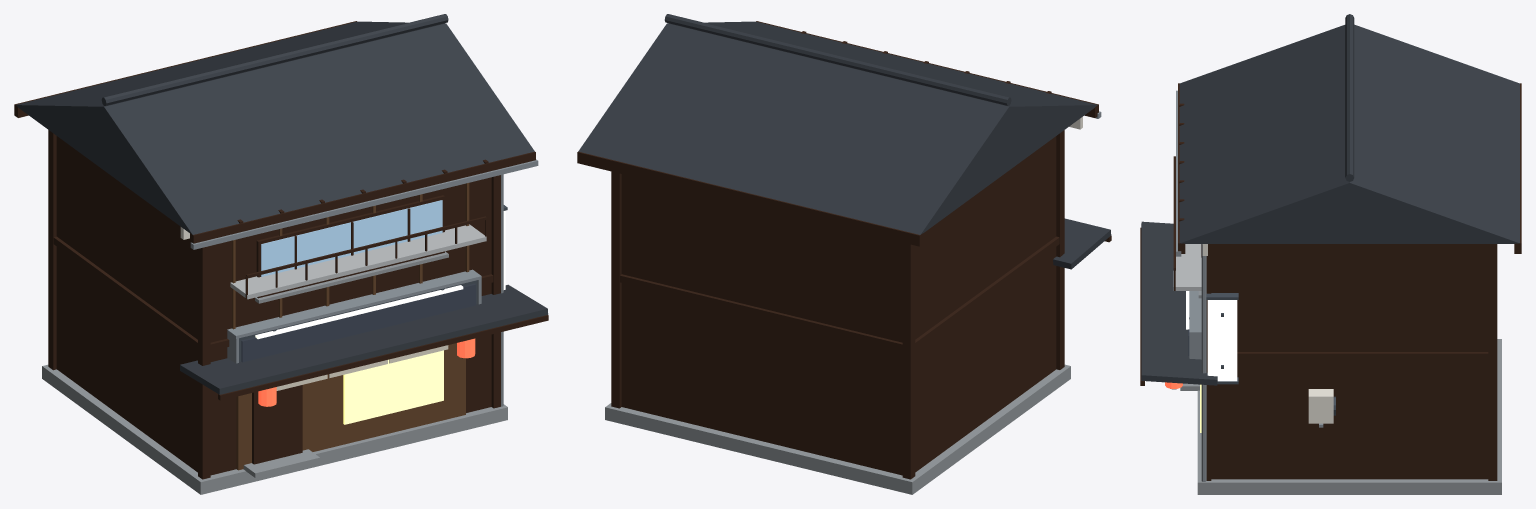
Rendered from shop_kappo_2f.glb.
The picture shows the model from 3 angles, left to right: view 1: azimuth 30°, elevation 25°; view 2: azimuth 150°, elevation 25°; view 3: azimuth 270°, elevation 25°; orthographic projection. The views are drawn at different scales.
Visible parts, largest first — view 1: roof.019, body.042, eave.019, panel.010, base.043, win_glass.056, panel_glass.010, sign_face.036, balcony_slab.046, ridge.019, door.039, eave_front.019 (+14 smaller); view 2: body.042, roof.019, base.043, eave_back.019, beam.094, ridge.019, post.169, post.171, post.168, eave.019; view 3: roof.019, body.042, eave.019, base.043, blade_board.011, post.171, beam.094, ridge.019, downpipe.018, balcony_slab.046, post.170, ac_body.054 (+1 smaller).
Boxes of the visible parts, x1,y1,x2,y2 form: roof.019: (15,21,534,234); body.042: (56,136,491,475); eave.019: (180,284,548,394); panel.010: (236,343,465,470); base.043: (42,364,507,494); win_glass.056: (261,200,442,276); panel_glass.010: (343,350,443,424); sign_face.036: (241,283,475,362); balcony_slab.046: (230,224,486,299); ridge.019: (101,14,448,105); door.039: (252,385,302,464); eave_front.019: (190,151,535,243); body.042: (621,136,1056,475); roof.019: (578,21,1097,234); base.043: (605,364,1070,494); eave_back.019: (577,151,923,246); beam.094: (620,236,1059,351); ridge.019: (664,14,1011,105); post.169: (902,242,915,479); post.171: (611,171,621,408); post.168: (1056,130,1064,369); eave.019: (1053,218,1111,269); roof.019: (1179,24,1519,243); body.042: (1211,244,1488,479); eave.019: (1141,221,1217,385); base.043: (1197,339,1501,494); blade_board.011: (1207,300,1237,381); post.171: (1488,244,1497,480); beam.094: (1237,352,1488,359); ridge.019: (1345,14,1354,181); downpipe.018: (1201,244,1206,481); balcony_slab.046: (1173,244,1201,290); post.170: (1206,244,1211,480); ac_body.054: (1308,389,1333,423).
Size of the model in its own units: 8.5 by 8.1 by 8.5.
